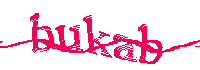a: (114, 33, 137, 64)
b: (135, 24, 166, 65), (30, 11, 55, 53)
k: (82, 15, 112, 59)
u: (56, 22, 81, 51)
